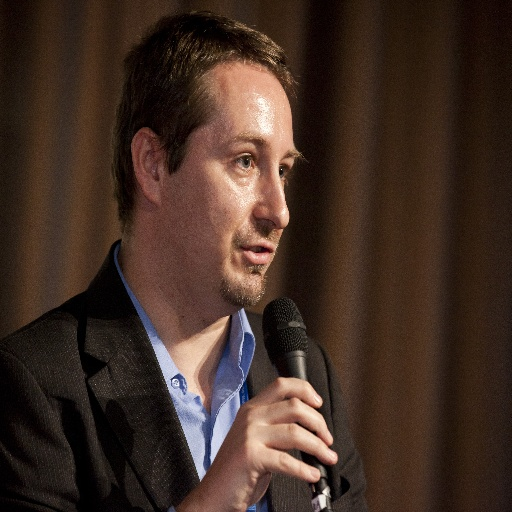hand: (218, 347, 330, 483)
